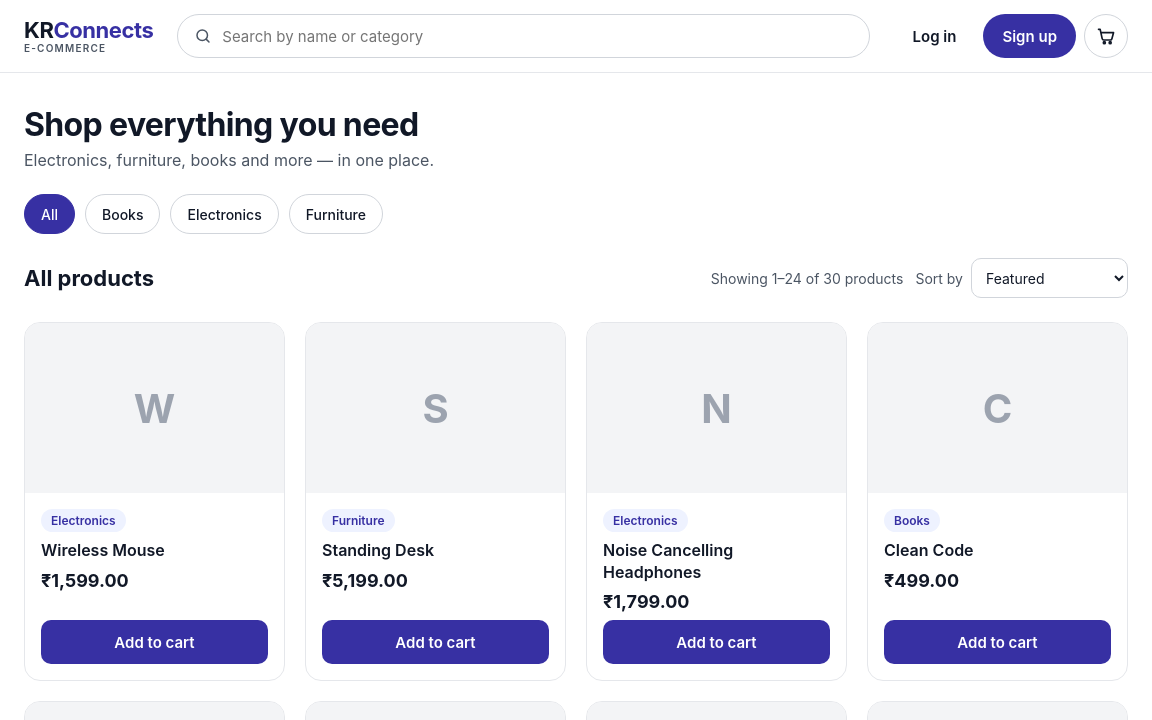
Scenario: App (storefront home page) › opens the product details page when a product name is clicked
Check: the link "Wireless Mouse" is shown, box [41, 540, 165, 560]
Click the link "Standing Desk" at (378, 550), box [322, 540, 434, 560]
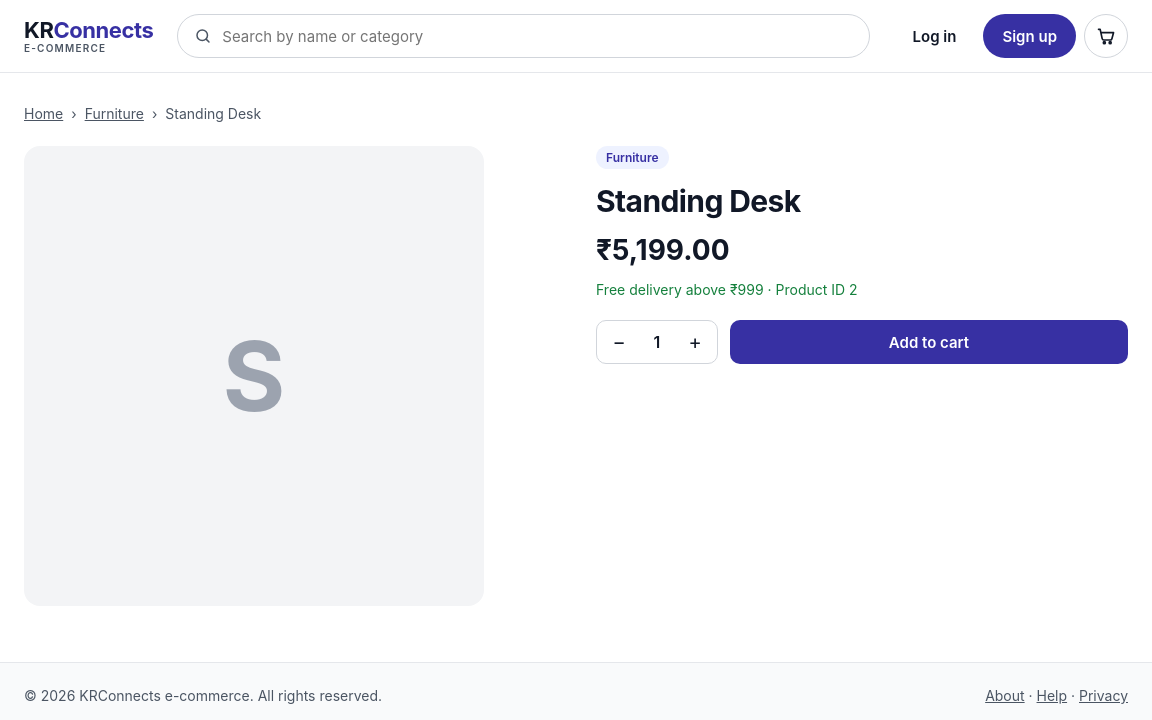
Check: the text "₹5,199.00" is shown, box [596, 233, 730, 267]
Check: the heading "Standing Desk" is shown, box [596, 183, 801, 219]
